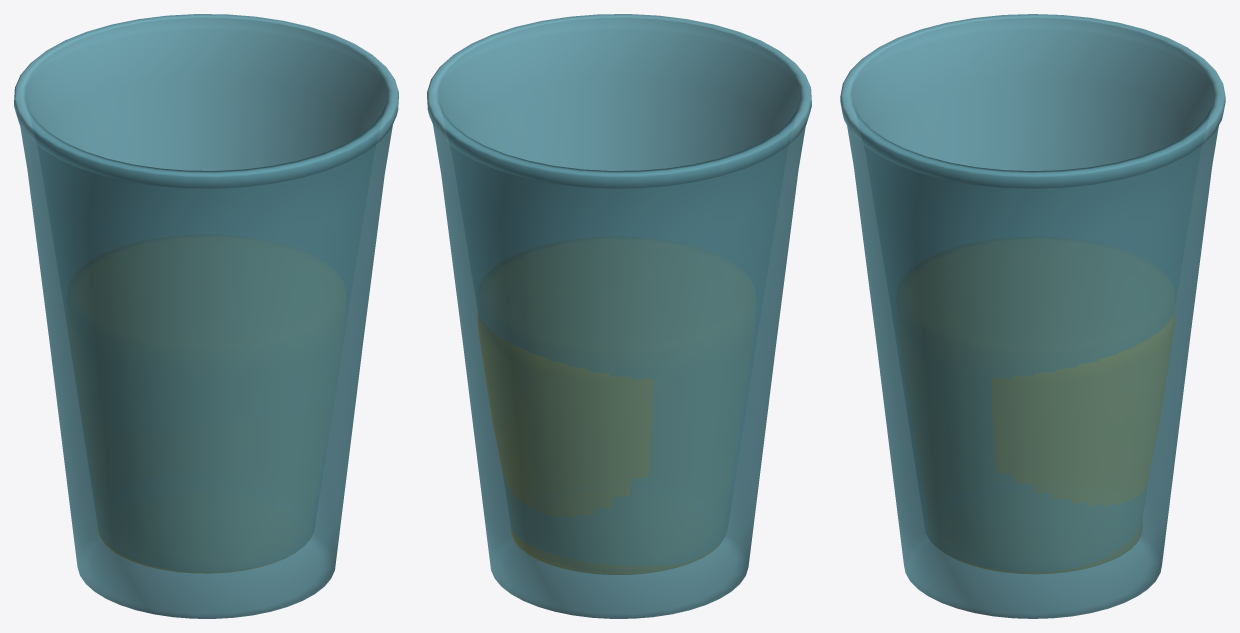
The model's file is plasticCup_01_ah.fbx.
3 views of the same model, side by side, from view 1: azimuth 30°, elevation 25°; view 2: azimuth 150°, elevation 25°; view 3: azimuth 270°, elevation 25° (orthographic).
Parts seen in each view (by area): view 1: cup_01; view 2: cup_01, liquid_02; view 3: cup_01, liquid_02.
Boxes of the visible parts, x1,y1,x2,y2 form: cup_01: (14, 14, 398, 618); cup_01: (427, 14, 811, 618); liquid_02: (478, 313, 719, 574); cup_01: (840, 14, 1225, 618); liquid_02: (947, 311, 1174, 573).
Bounding box in the file's own units: 0.4408 × 0.5943 × 0.4408.
